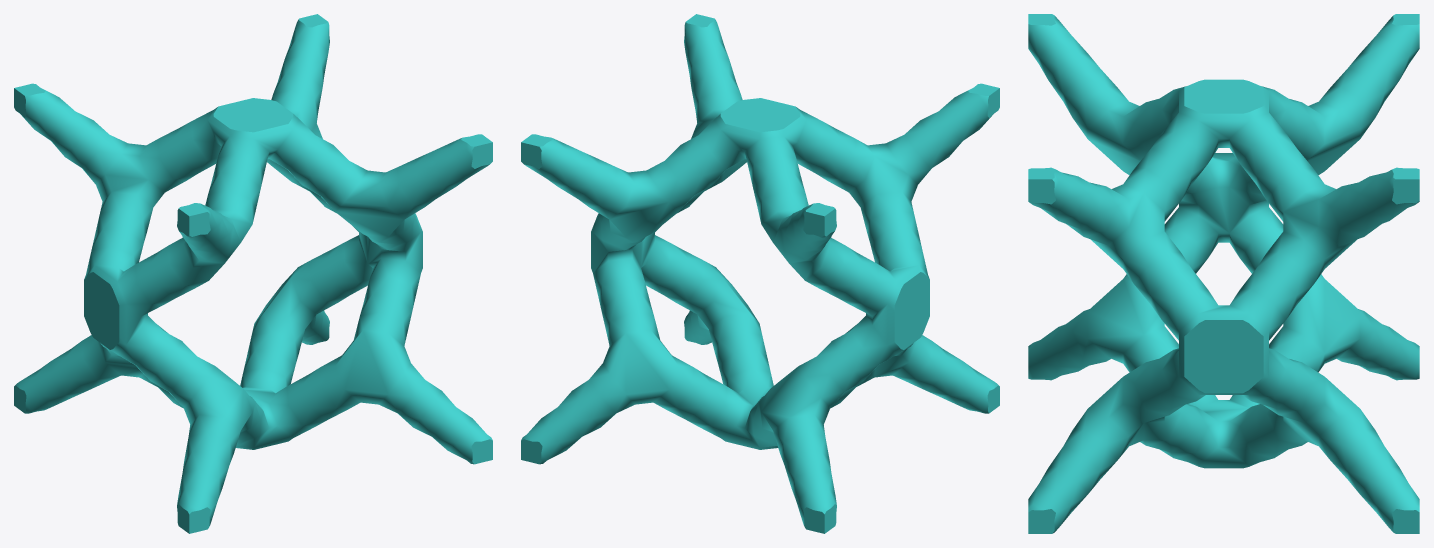
File: Variation2.glb
The picture shows the model from 3 angles, left to right: view 1: azimuth 30°, elevation 25°; view 2: azimuth 150°, elevation 25°; view 3: azimuth 270°, elevation 25°; orthographic projection. The views are drawn at different scales.
Parts seen in each view (by area): view 1: Mesh_0.015; view 2: Mesh_0.015; view 3: Mesh_0.015.
Part boxes in pixels (x1,y1,x2,y2): Mesh_0.015: [14, 14, 492, 533]; Mesh_0.015: [521, 14, 999, 533]; Mesh_0.015: [1028, 14, 1419, 533].
Size of the model in its own units: 1 by 1 by 1.
